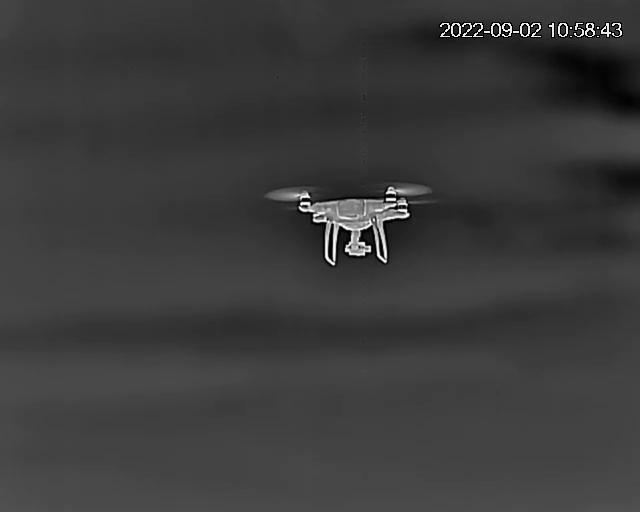DJI-Phantom: (267, 181, 435, 264)
